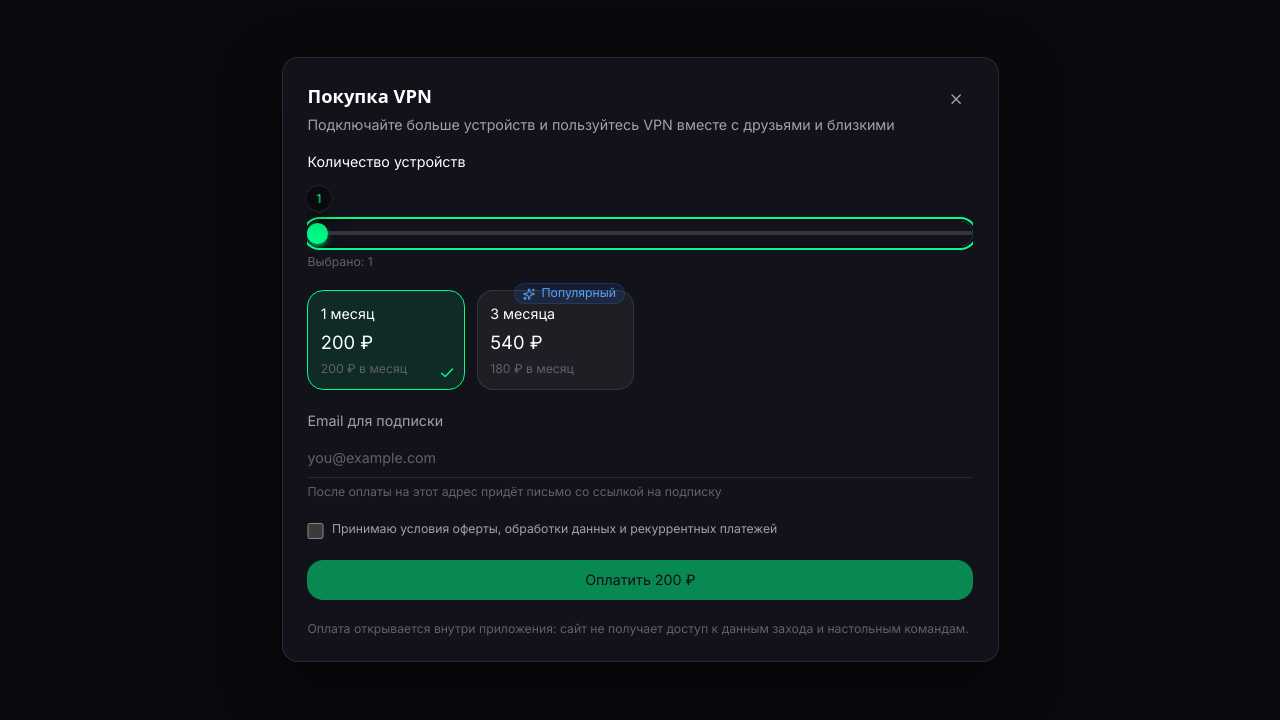
PaymentModal › ошибка создания заказа остаётся внутри модалки
The image size is (1280, 720).
In the field labelled "Email для подписки": coordinates (640, 457) [307, 437, 973, 478], type "user@example.com"
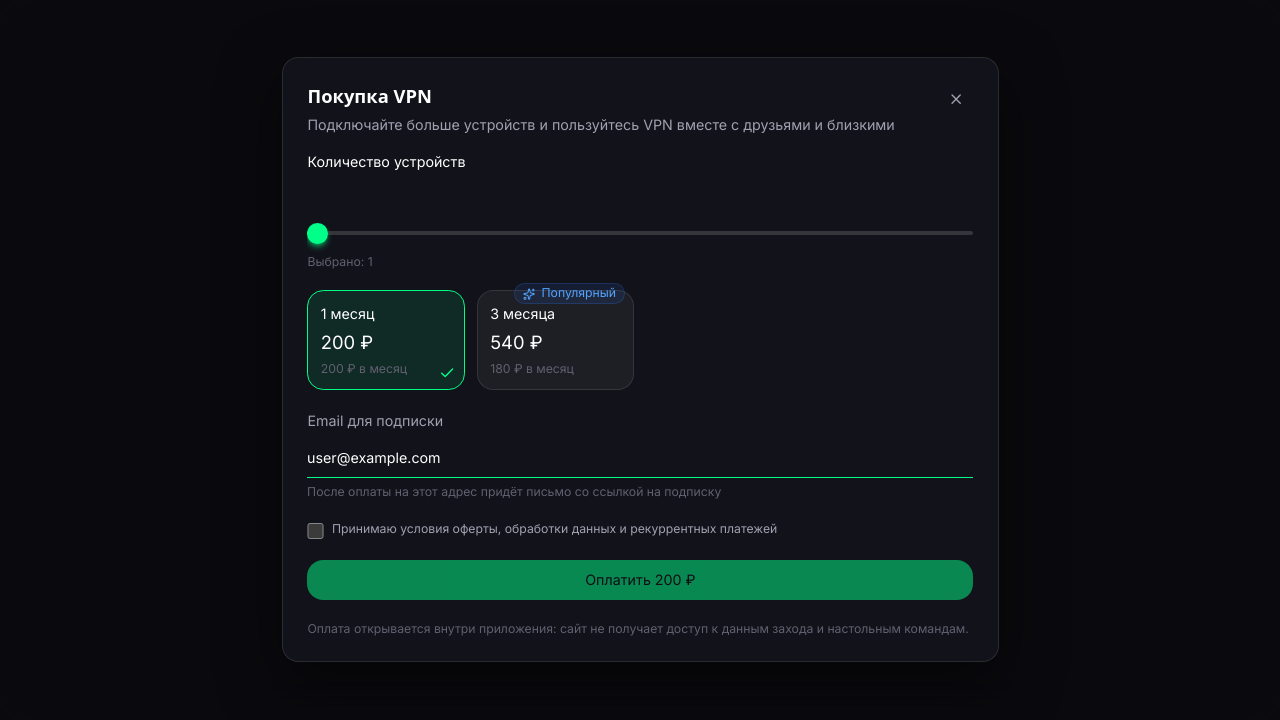
Click the checkbox: coordinates (315, 531) [307, 523, 323, 539]
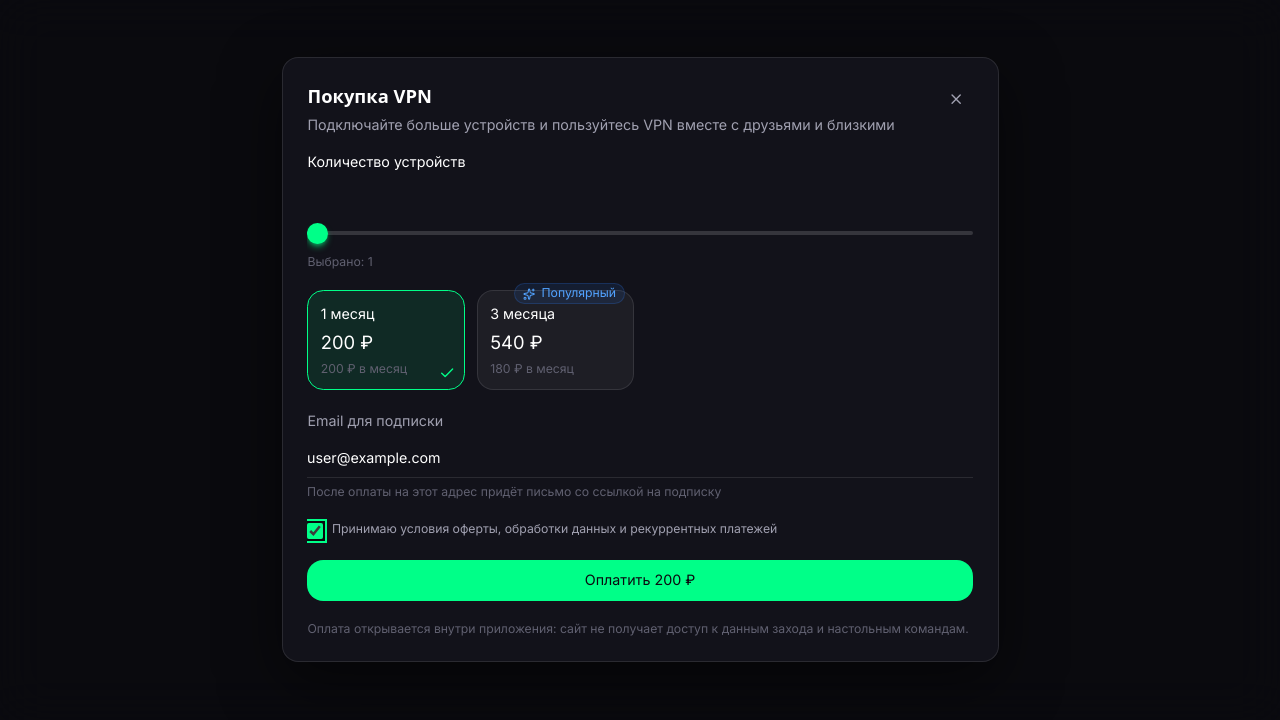
Click the button "Оплатить 200 ₽": coordinates (640, 580) [307, 560, 973, 601]
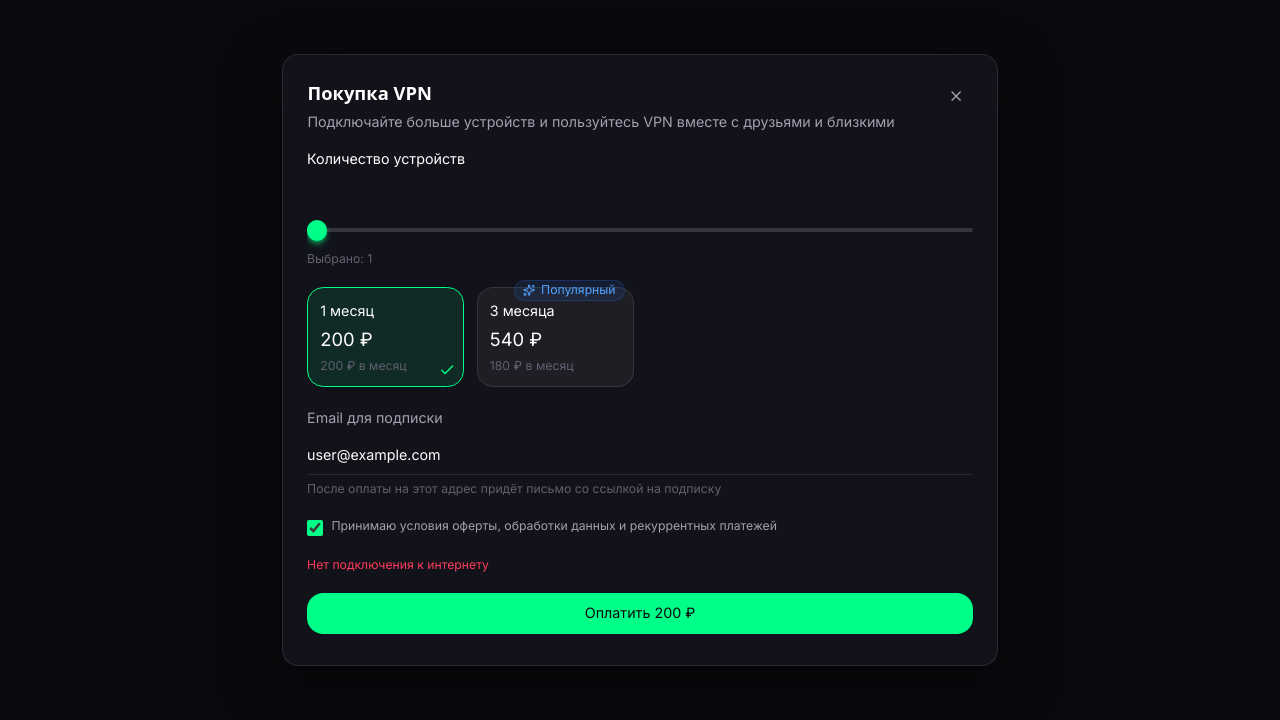
Now the text "Нет подключения к интернету" is shown, box [307, 556, 489, 572]
